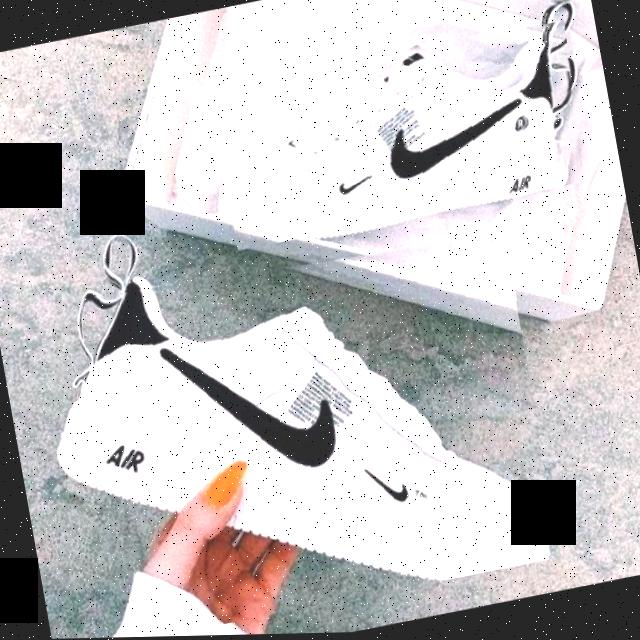shoe: (42, 214, 562, 639), (207, 9, 592, 252)
